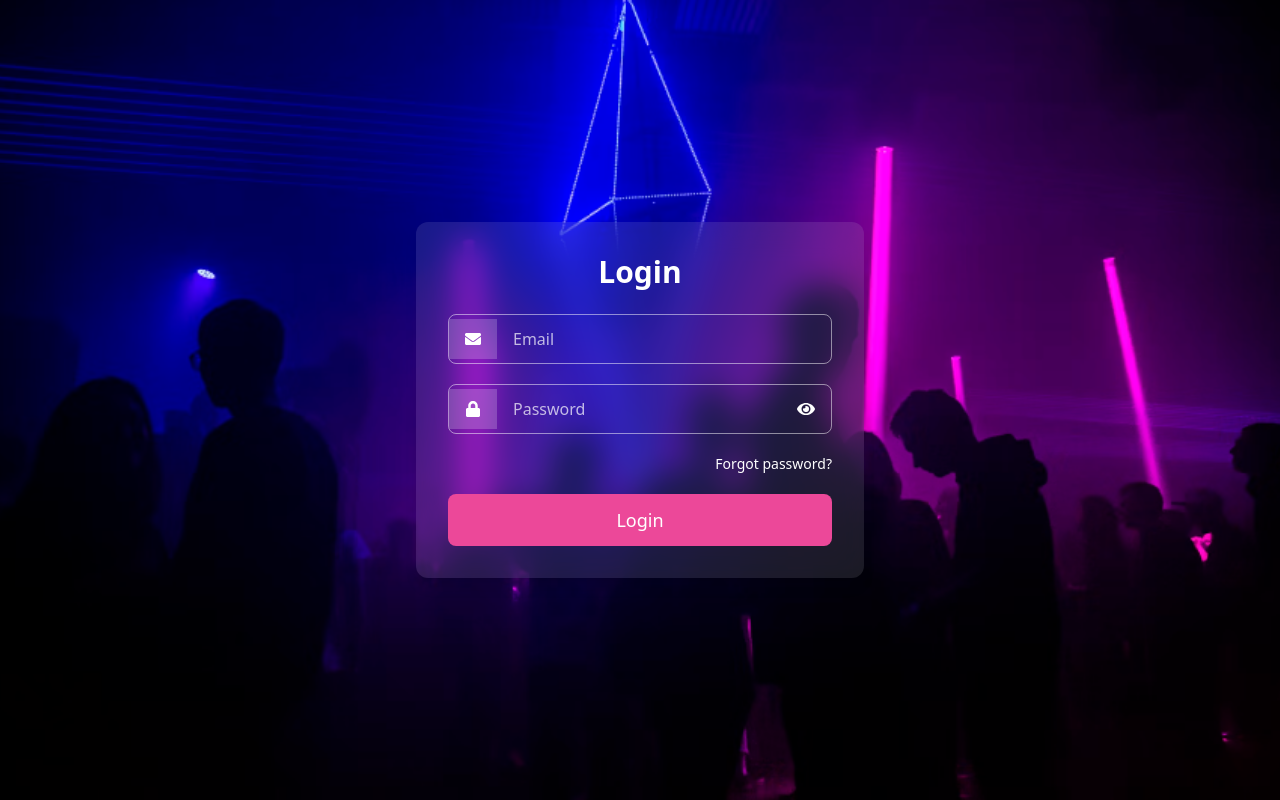
Test: LoginPage › displays error message for inactive account
The width and height of the screenshot is (1280, 800).
Type "inactive@example.com" into the field with placeholder "Email" at (664, 339), box [497,315,831,363]
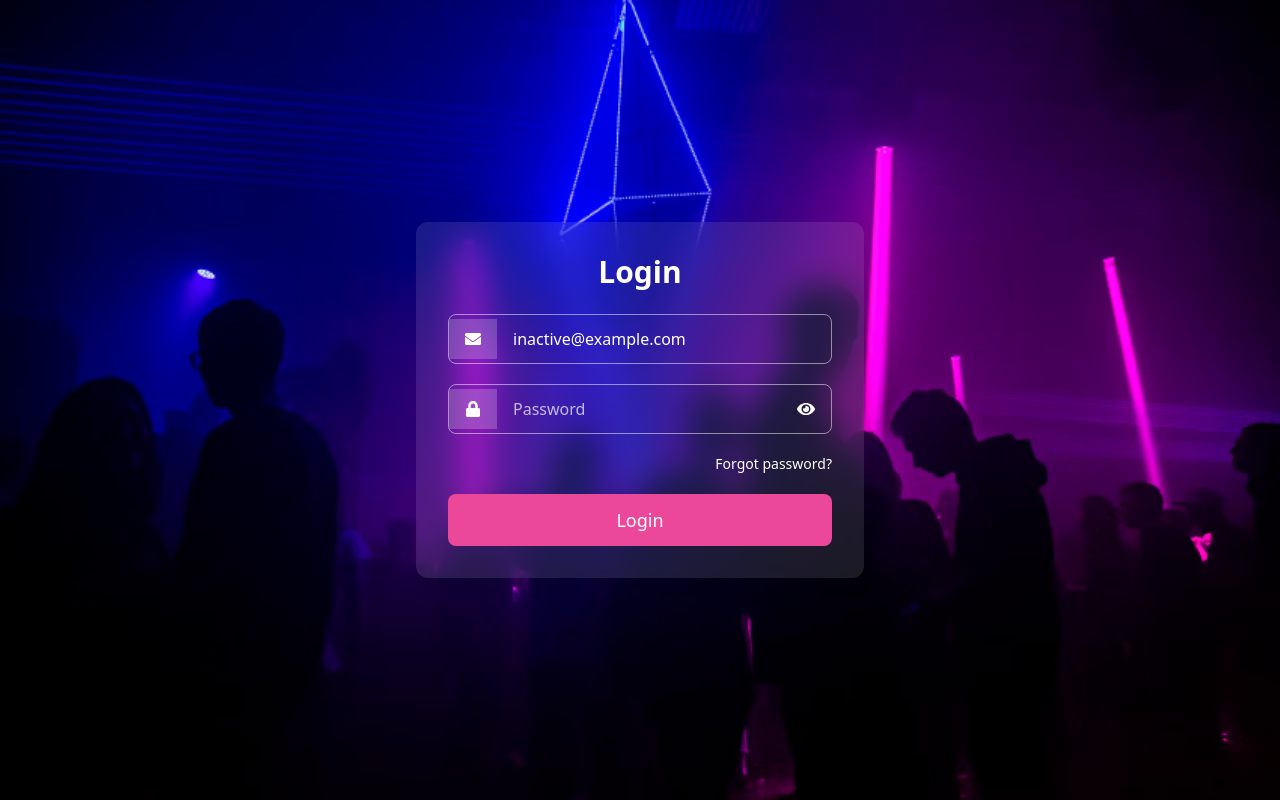
Type "password123" into the password field with placeholder "Password" at (664, 409), box [497,385,831,433]
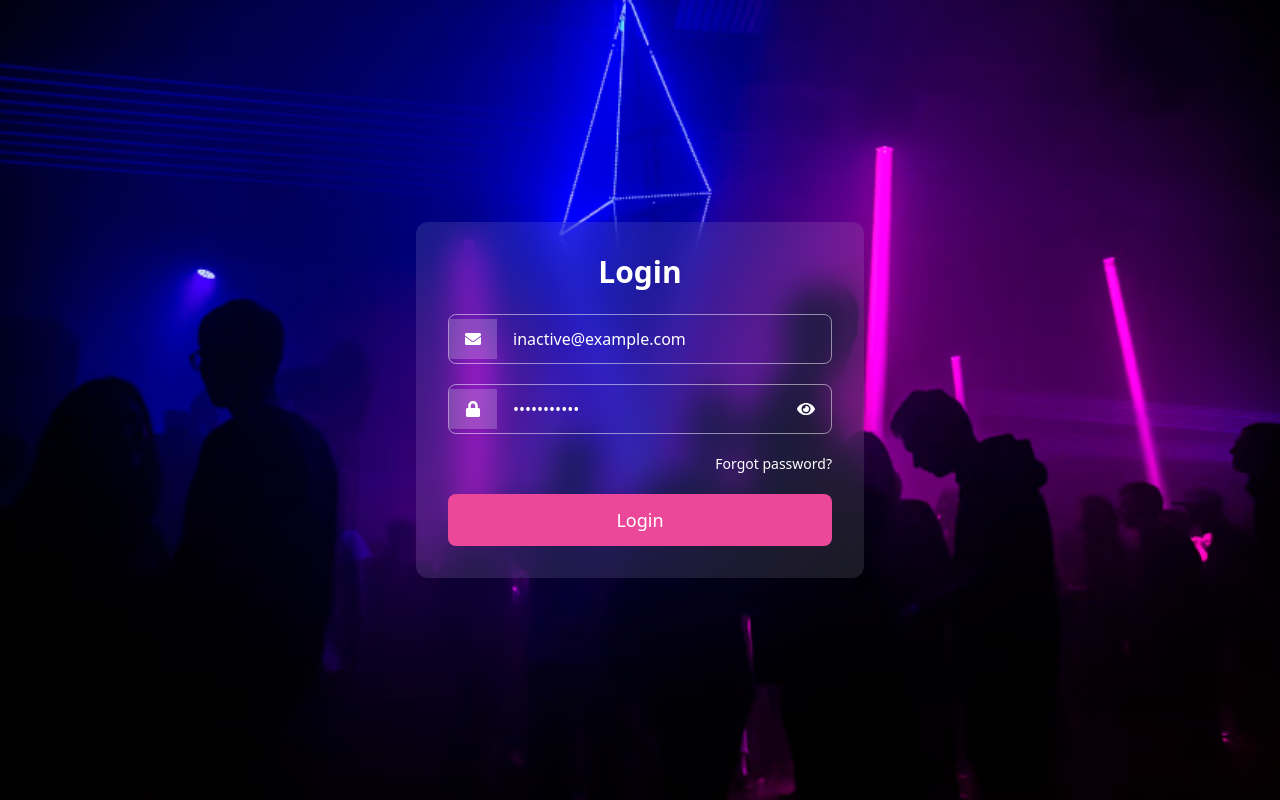
Click the button "Login" at (640, 520), box [448,494,832,546]
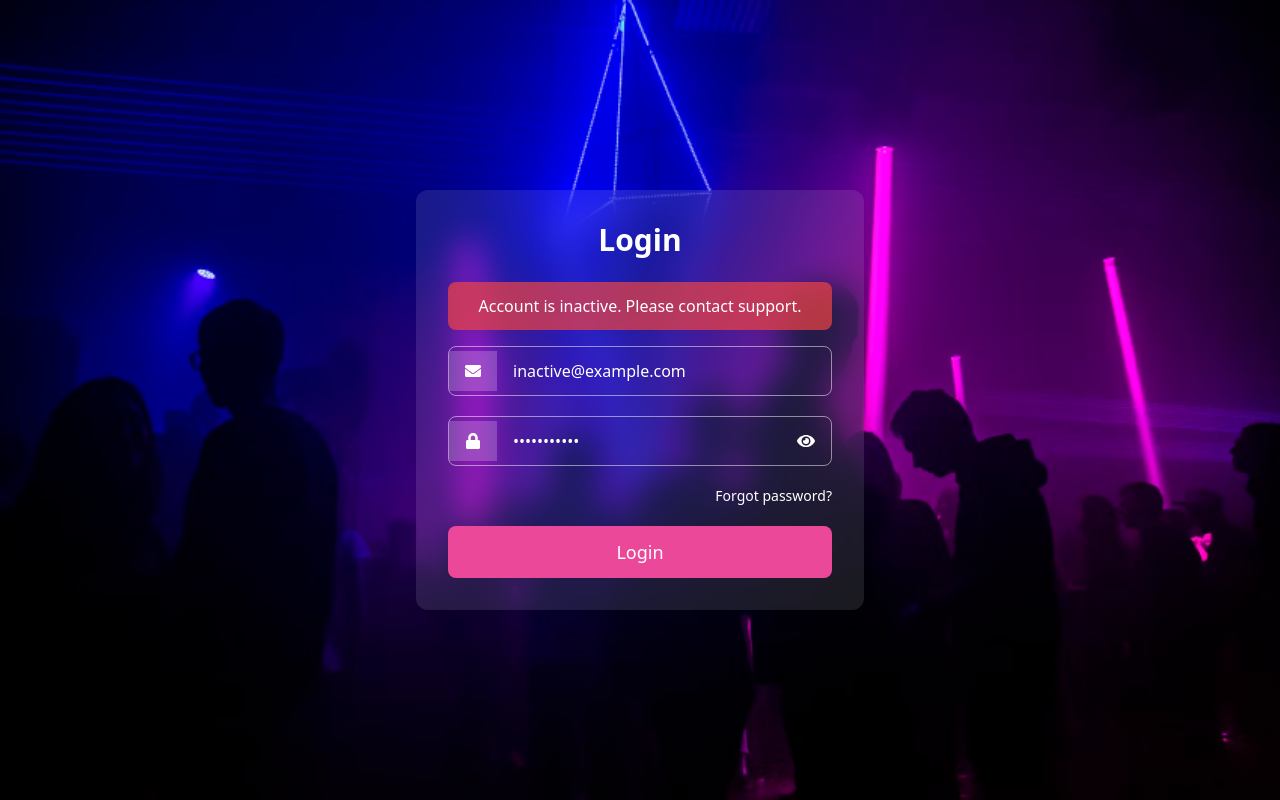
Expected: the text "Account is inactive. Please contact support." is shown, [448,282,832,330]
